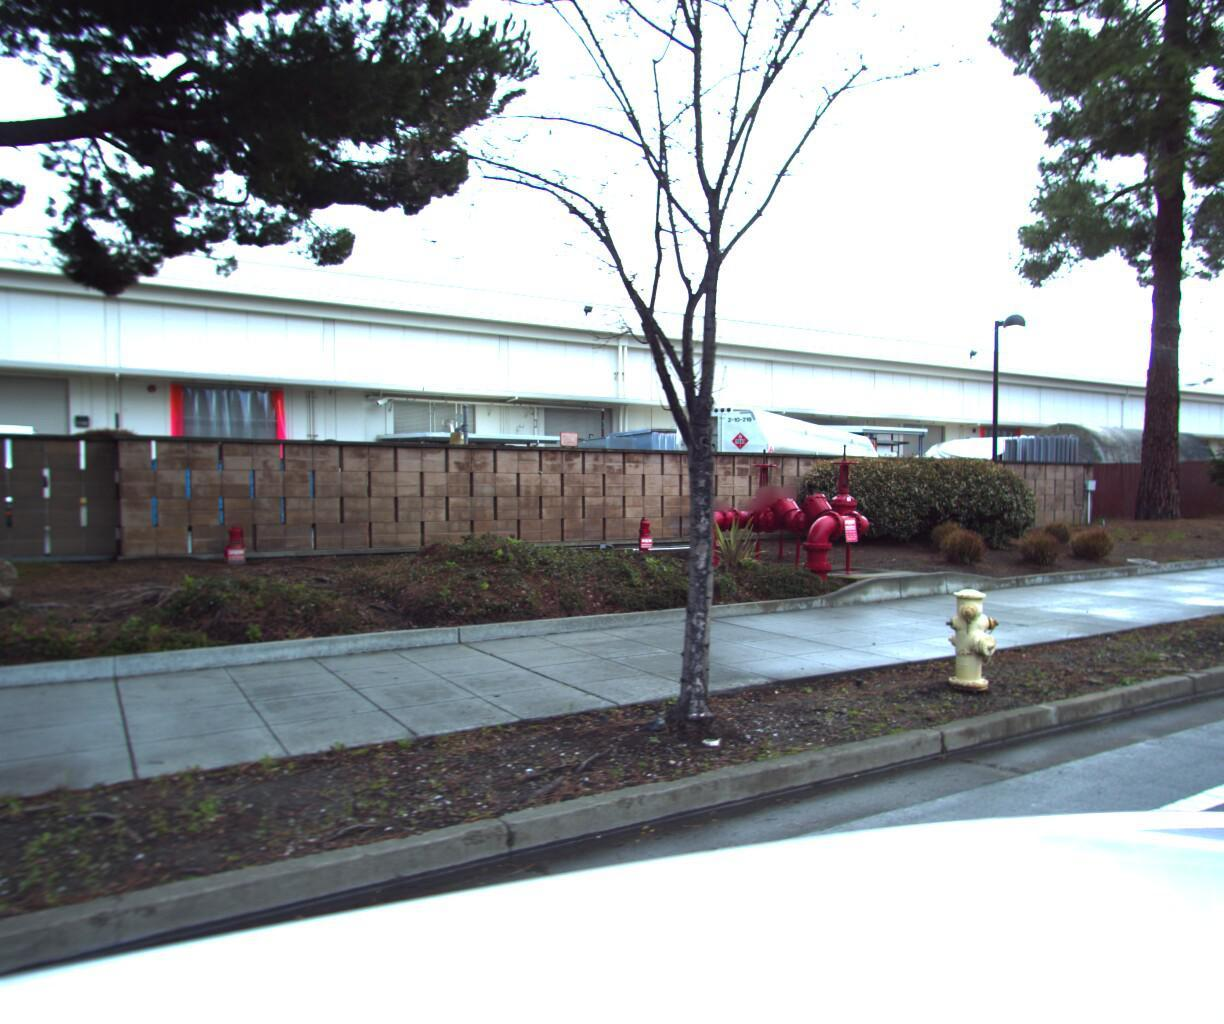truck: (0, 408, 52, 560)
